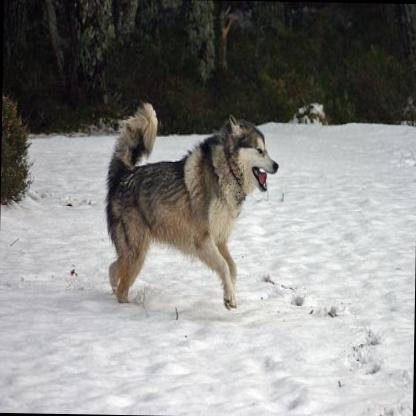malamute: (100, 98, 278, 309)
